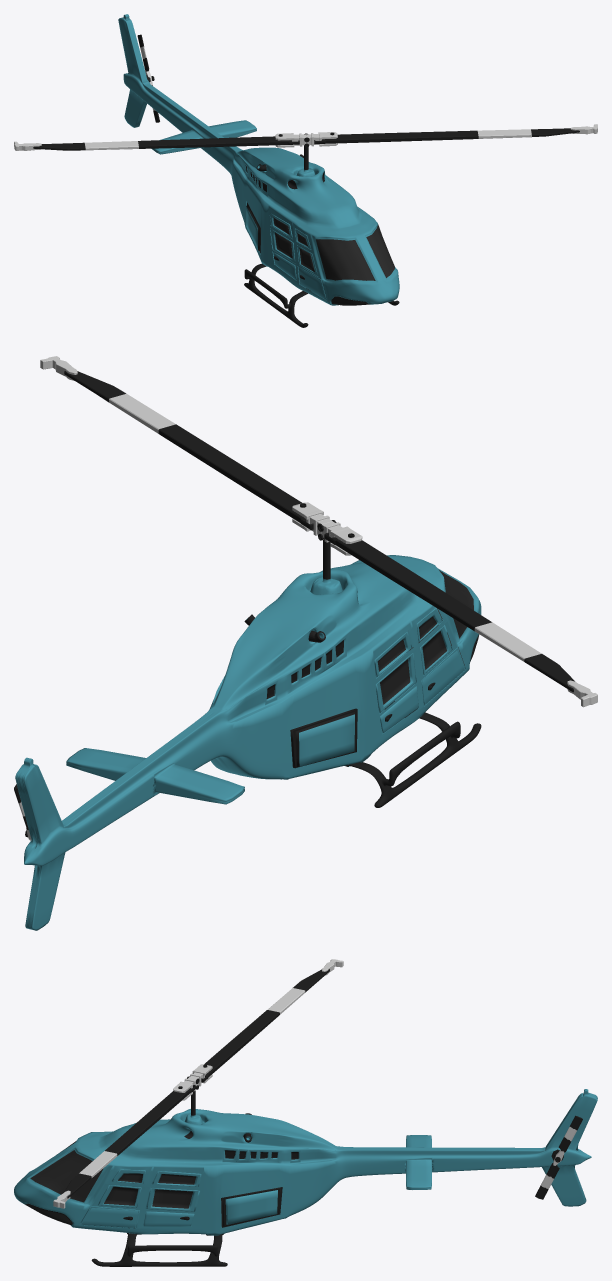
Rendered from airplane.glb.
3 views of the same model, one above another, from view 1: azimuth 30°, elevation 25°; view 2: azimuth 150°, elevation 25°; view 3: azimuth 270°, elevation 25° (orthographic). The views are drawn at different scales.
Parts seen in each view (by area): view 1: body_helicopter_Cube, baling_baling_1_Cube.001; view 2: body_helicopter_Cube, baling_baling_1_Cube.001; view 3: body_helicopter_Cube, baling_baling_1_Cube.001, baling-baling_2_Plane.001.
Part boxes in pixels (x1,y1,x2,y2): body_helicopter_Cube: [118, 14, 399, 327]; baling_baling_1_Cube.001: [14, 124, 597, 150]; body_helicopter_Cube: [15, 538, 481, 930]; baling_baling_1_Cube.001: [40, 356, 597, 707]; body_helicopter_Cube: [14, 1089, 597, 1266]; baling_baling_1_Cube.001: [53, 959, 343, 1208]; baling-baling_2_Plane.001: [535, 1115, 582, 1199].
Bounding box in the file's own units: 17.87 × 5.65 × 18.03.
